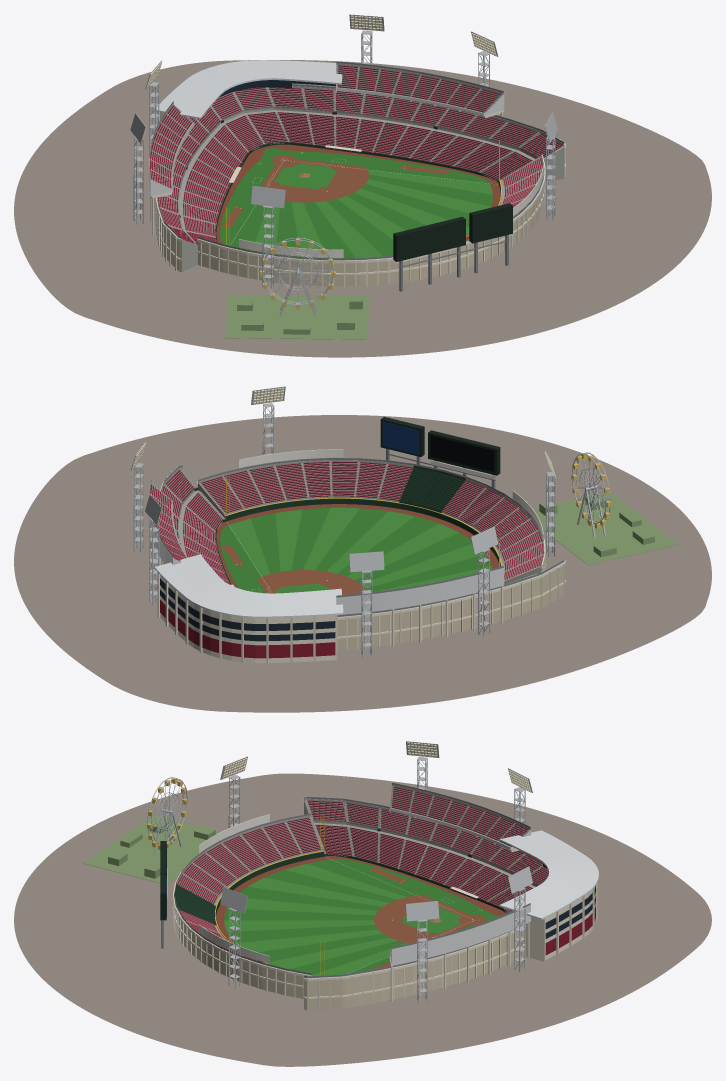
File: miyagi.obj
The picture shows the model from 3 angles, top to bottom: view 1: azimuth 30°, elevation 25°; view 2: azimuth 150°, elevation 25°; view 3: azimuth 270°, elevation 25°; orthographic projection. The views are drawn at different scales.
Visible parts, largest first — view 1: ground_apron, stand_first, turf_base, stand_backstop, stand_third, turf_stripes, park_area, outer_wall_outfield, scoreboard, light_towers, main_roof, facade_fins (+10 smaller); view 2: ground_apron, stand_outfield_left, turf_base, stand_outfield_right, turf_stripes, light_towers, park_area, main_roof, scoreboard, outer_wall_infield, stand_first, facade_fins (+12 smaller); view 3: ground_apron, stand_third, turf_base, turf_stripes, stand_outfield_left, light_towers, outer_wall_infield, main_roof, park_area, stand_outfield_right, facade_fins, stand_rails (+15 smaller).
Part boxes in pixels (left/top/right/bottom): ground_apron: left=14, top=60, right=711, bottom=357; stand_first: left=312, top=65, right=564, bottom=180; turf_base: left=220, top=148, right=492, bottom=258; stand_backstop: left=166, top=63, right=363, bottom=162; stand_third: left=149, top=113, right=241, bottom=272; turf_stripes: left=252, top=170, right=492, bottom=258; park_area: left=225, top=295, right=369, bottom=339; outer_wall_outfield: left=198, top=168, right=544, bottom=286; scoreboard: left=239, top=165, right=543, bottom=291; light_towers: left=130, top=14, right=557, bottom=288; main_roof: left=155, top=60, right=342, bottom=119; facade_fins: left=154, top=112, right=565, bottom=287; ground_apron: left=14, top=415, right=711, bottom=712; stand_outfield_left: left=336, top=478, right=544, bottom=652; turf_base: left=220, top=508, right=491, bottom=593; stand_outfield_right: left=149, top=460, right=413, bottom=577; turf_stripes: left=229, top=507, right=491, bottom=591; light_towers: left=130, top=386, right=557, bottom=657; park_area: left=533, top=492, right=677, bottom=565; main_roof: left=154, top=554, right=343, bottom=618; scoreboard: left=239, top=417, right=543, bottom=540; outer_wall_infield: left=161, top=559, right=563, bottom=650; stand_first: left=149, top=467, right=230, bottom=584; facade_fins: left=156, top=471, right=564, bottom=663; ground_apron: left=14, top=773, right=711, bottom=1066; stand_third: left=304, top=784, right=518, bottom=901; turf_base: left=224, top=858, right=499, bottom=974; turf_stripes: left=224, top=864, right=407, bottom=975; stand_outfield_left: left=177, top=808, right=530, bottom=905; light_towers: left=220, top=741, right=532, bottom=1002; outer_wall_infield: left=304, top=930, right=524, bottom=1009; main_roof: left=499, top=830, right=598, bottom=919; park_area: left=83, top=814, right=226, bottom=884; stand_outfield_right: left=176, top=905, right=530, bottom=1001; facade_fins: left=173, top=867, right=597, bottom=1010; stand_rails: left=174, top=782, right=538, bottom=978.
Bounding box in the file's own units: 327 × 50.75 × 329.
